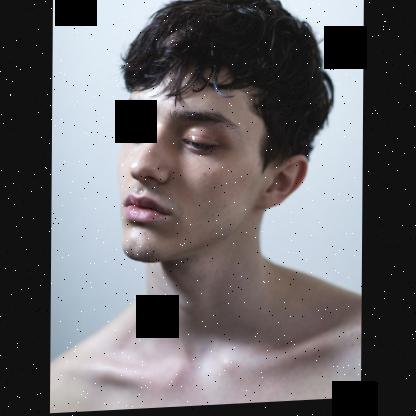Male: (116, 65, 306, 266)
